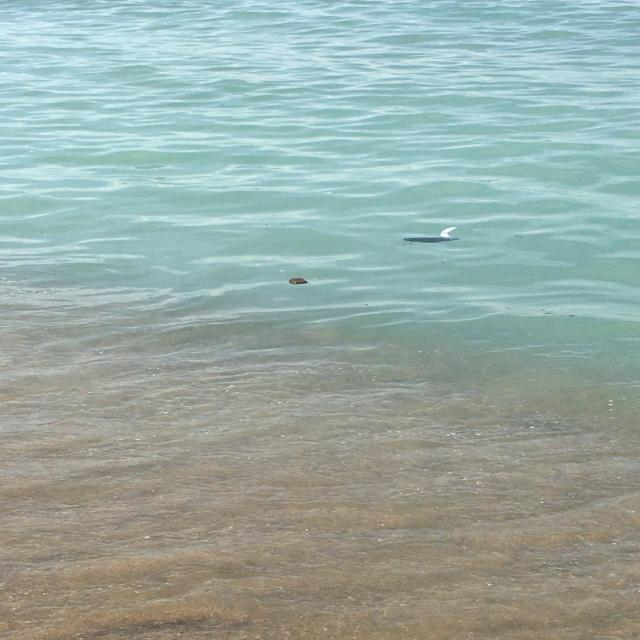Plastic: (439, 225, 457, 238)
Plastic bag: (402, 236, 461, 246)
Wood: (288, 275, 309, 287)
